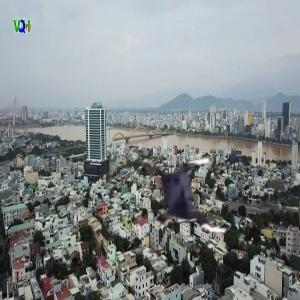drone: (134, 147, 235, 248)
